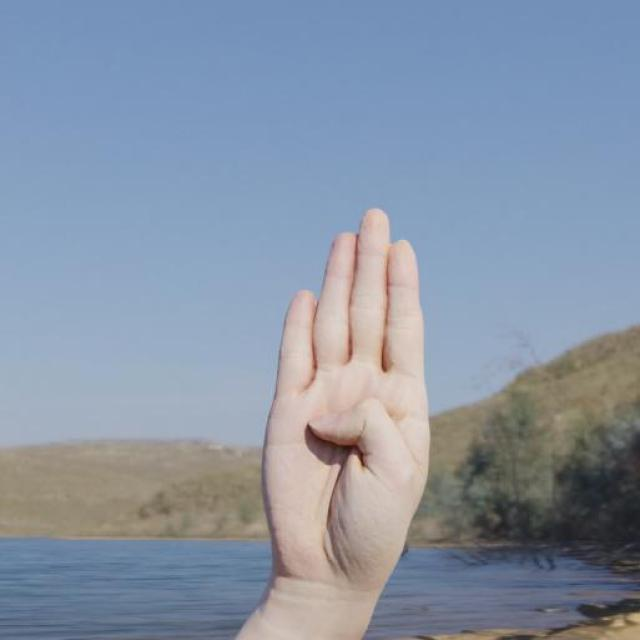B: (263, 186, 436, 608)
